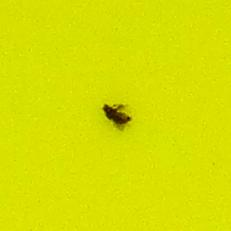Brachycera: (100, 100, 131, 131)
